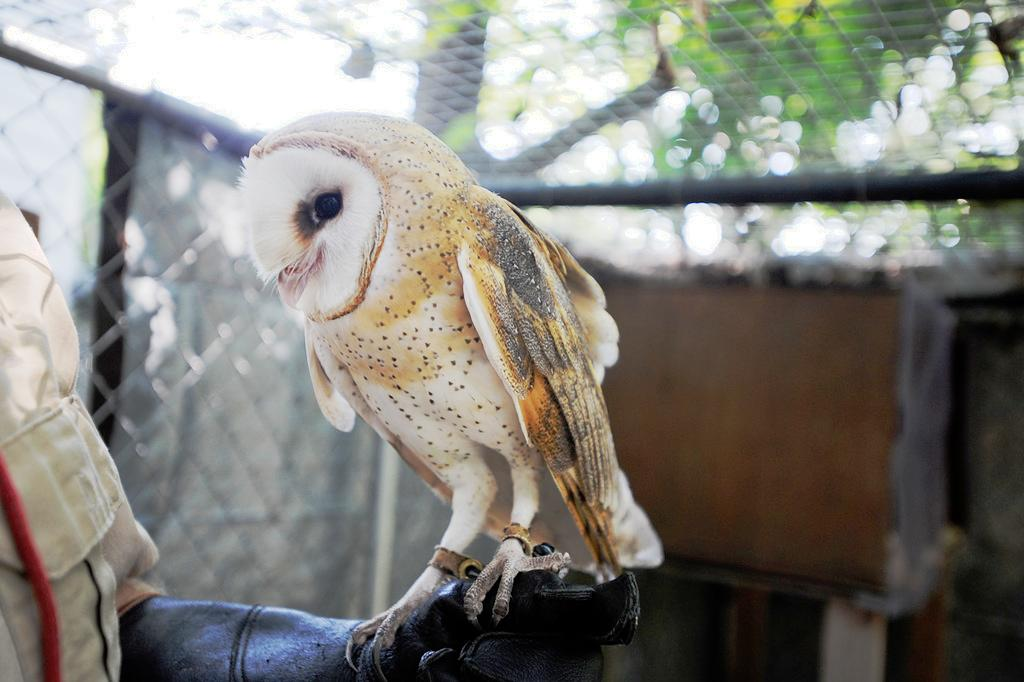Owl: (234, 109, 666, 675)
